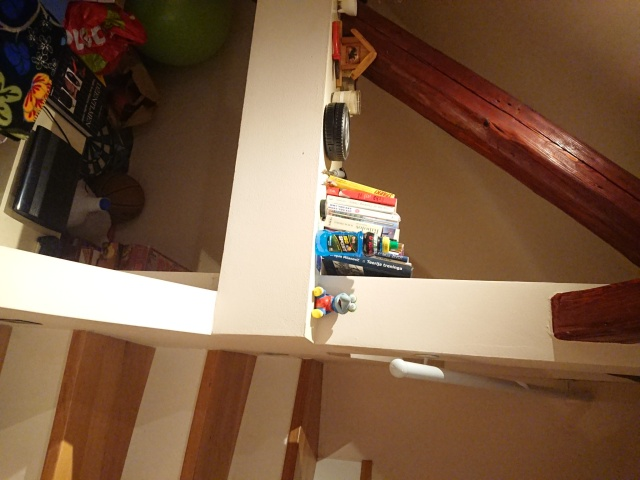Vindi Iso Sport Forest Strawberries 500mL: (313, 228, 398, 257)
